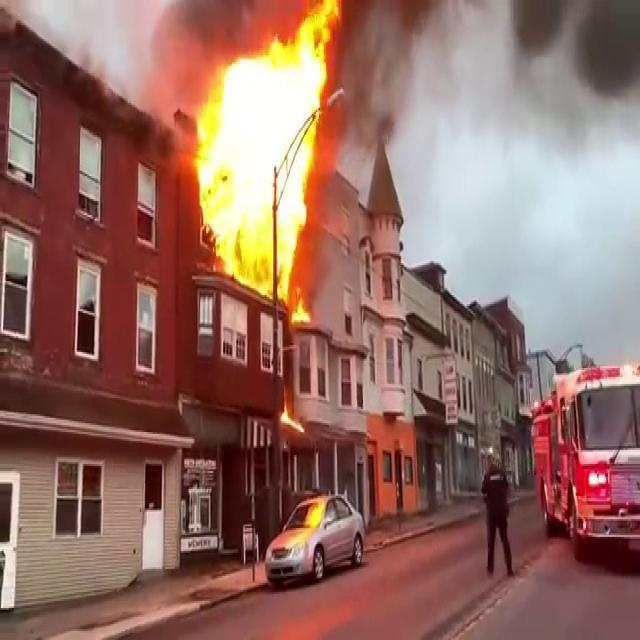Fire: (188, 1, 344, 296)
Smoke: (320, 0, 434, 231)
